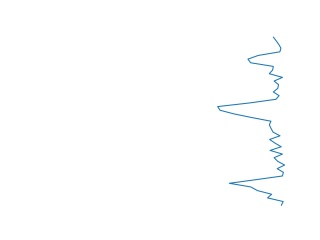underwaterNaturalLevee: (213, 36, 290, 207)
